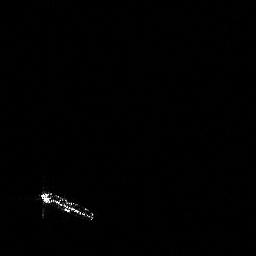ship: (36, 187, 97, 223)
